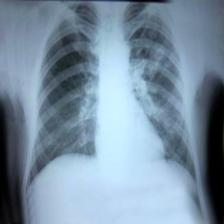tuberculosis: (14, 1, 206, 216)
